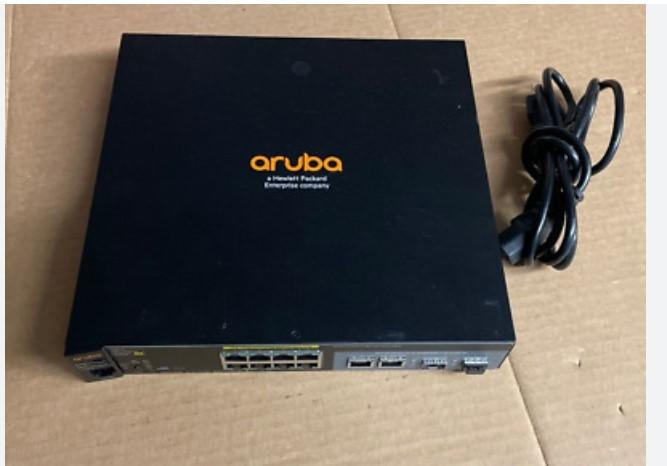NetworkSwitch: (62, 34, 517, 381)
